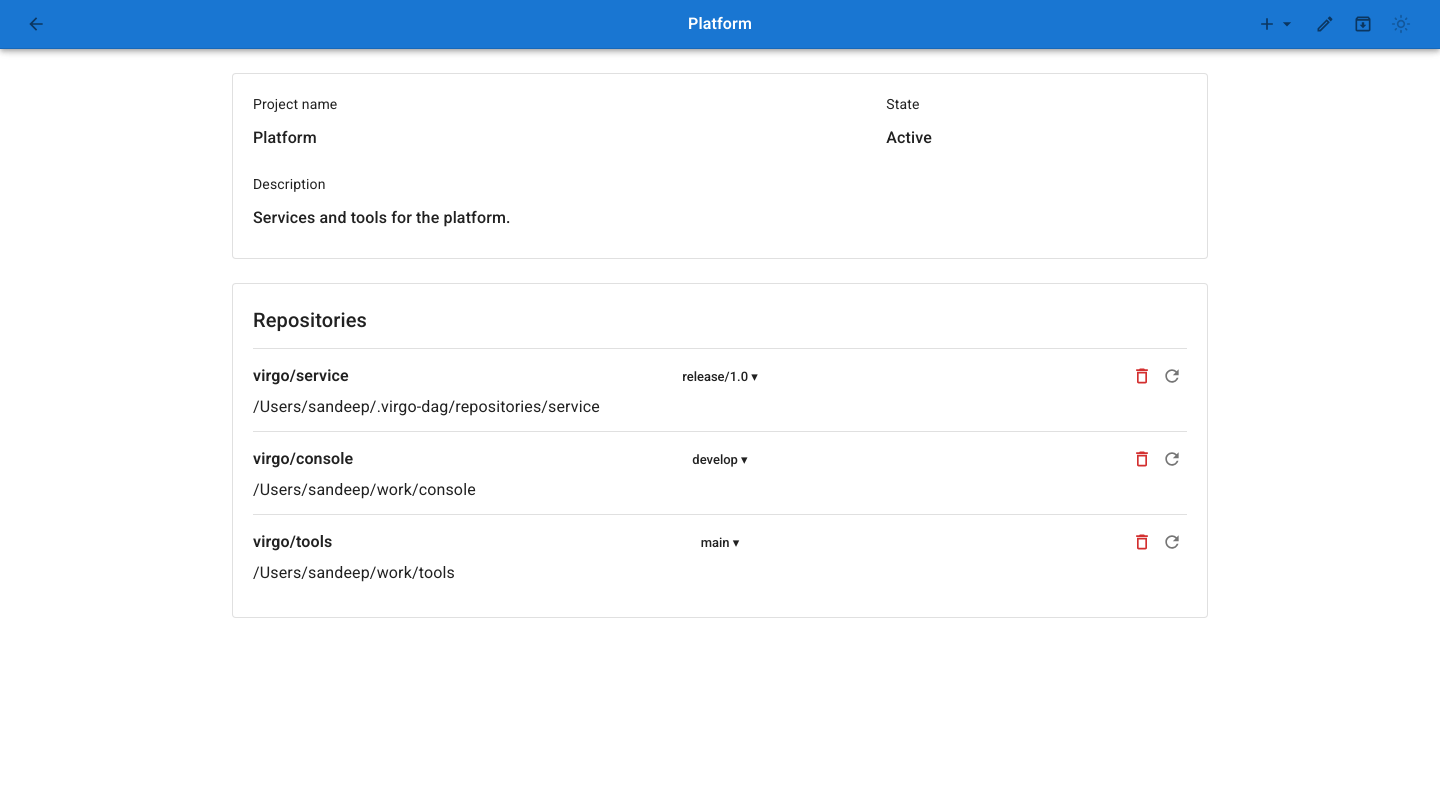
Test case: ProjectDetailsScreen applies editable values without changing catalog records
The image size is (1440, 810).
Click the button named "Edit project" at (1325,24), box [1310,9,1340,39]
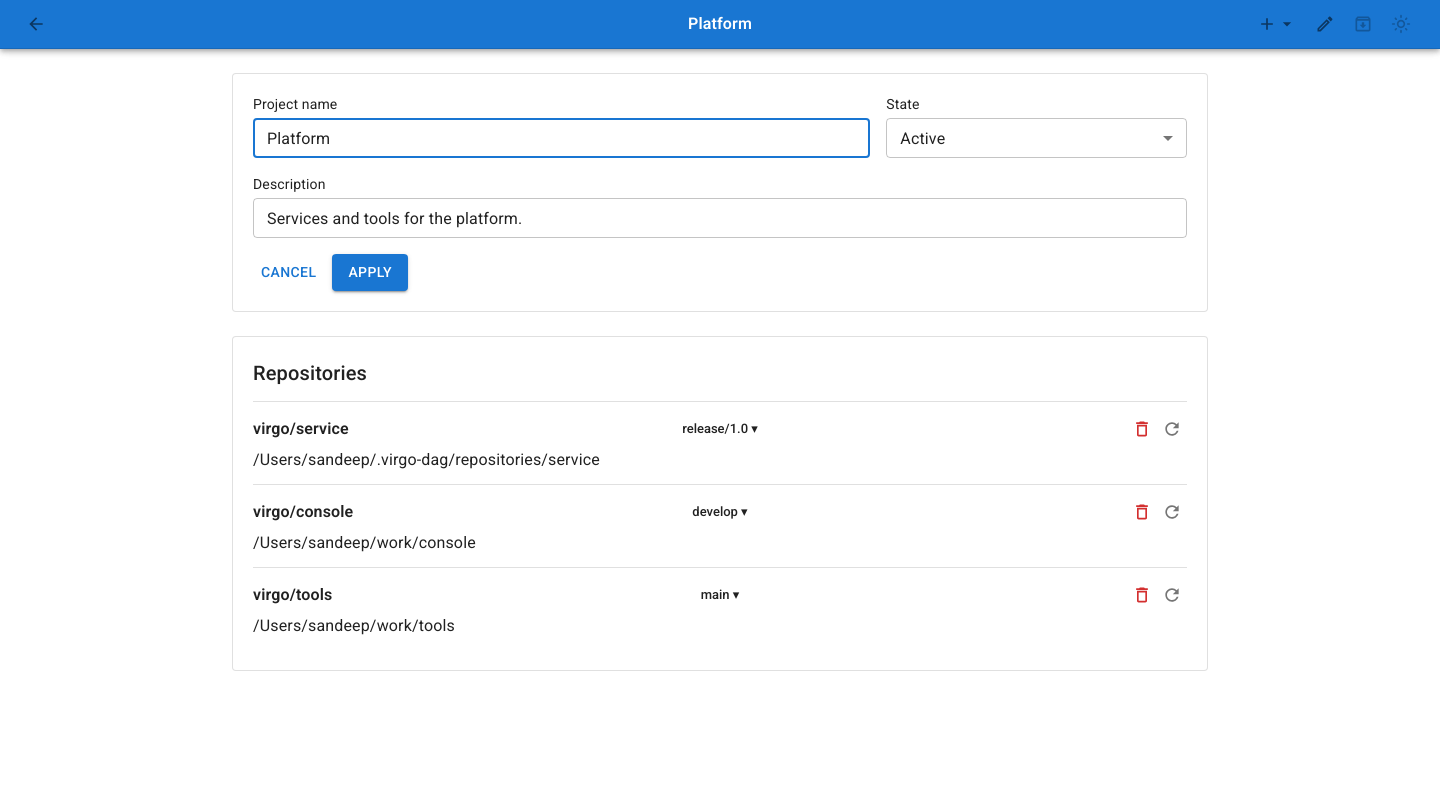
Clear the field named "Project name" at (562,138), box [253,118,870,158]
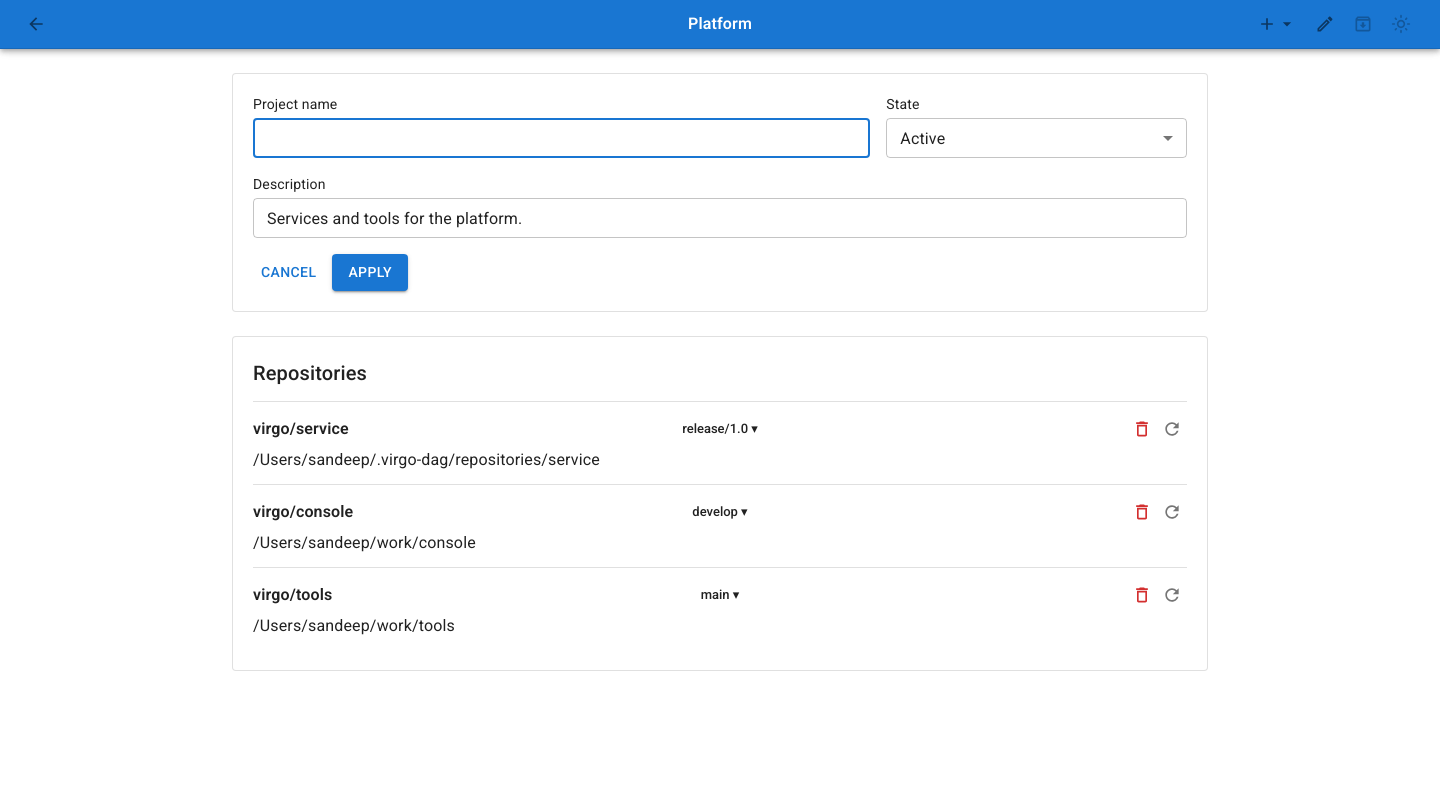
Type keys "Platform operations"
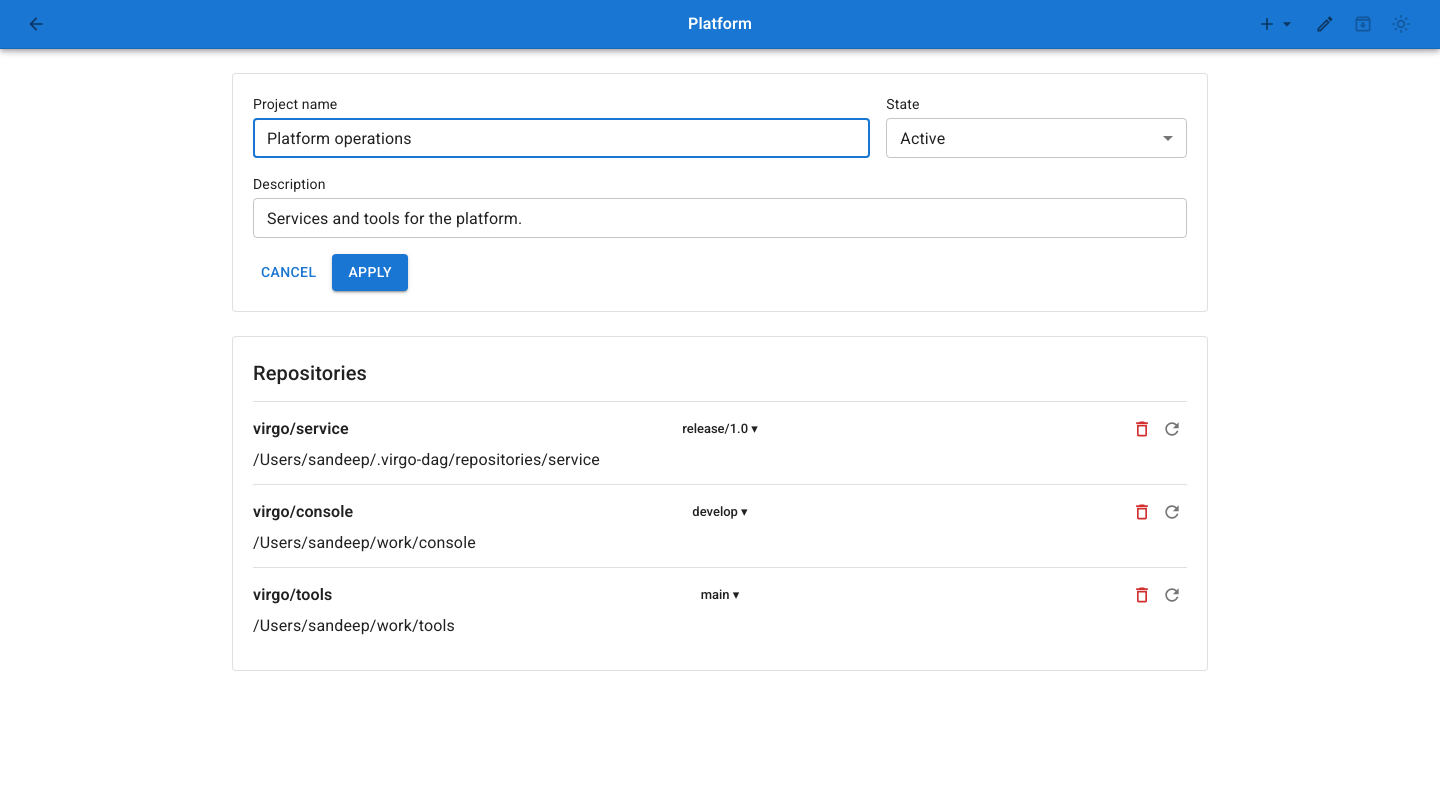
Click the dropdown named "State" at (923,138), box [900,128,945,148]
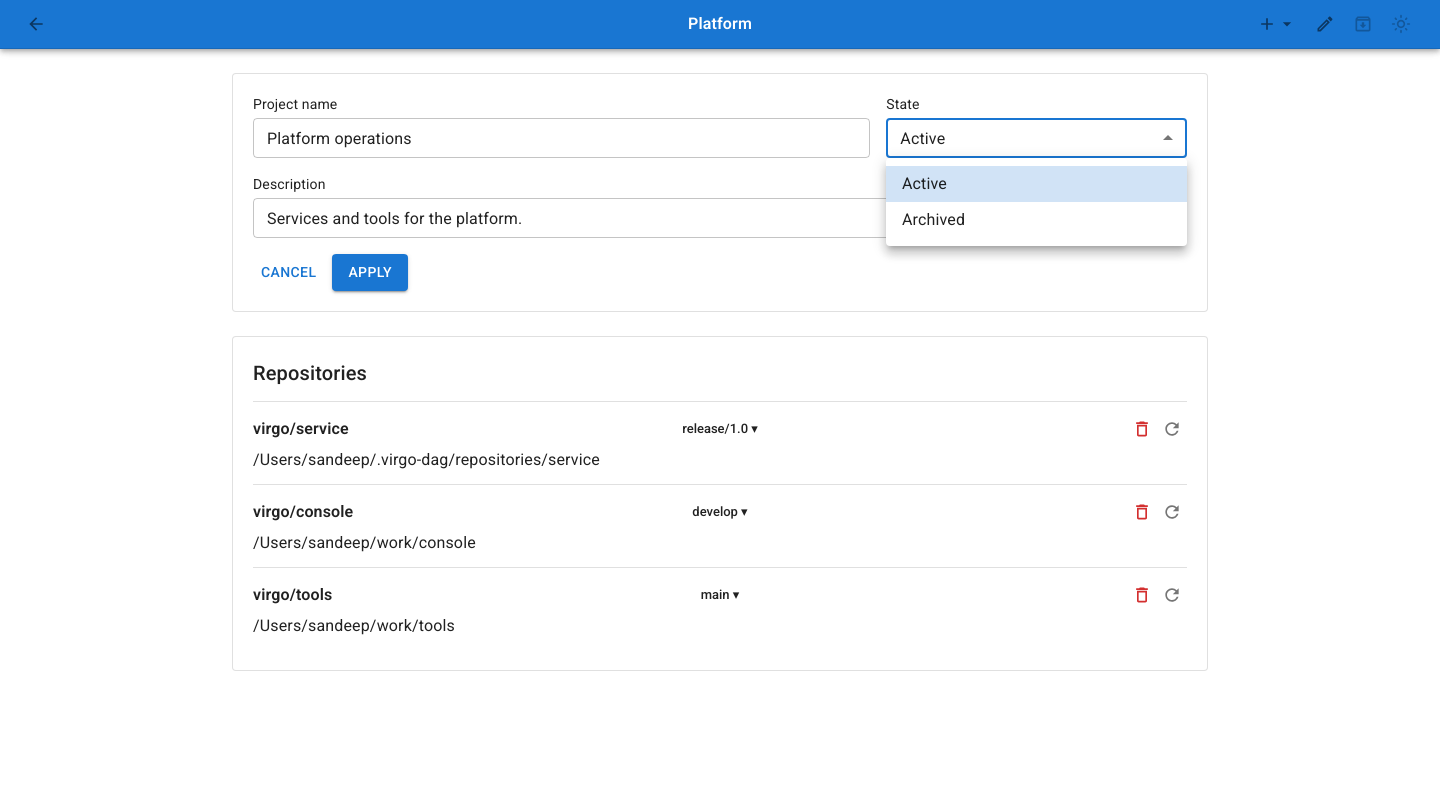
Click the option "Archived" at (934,220), box [902,210,965,229]
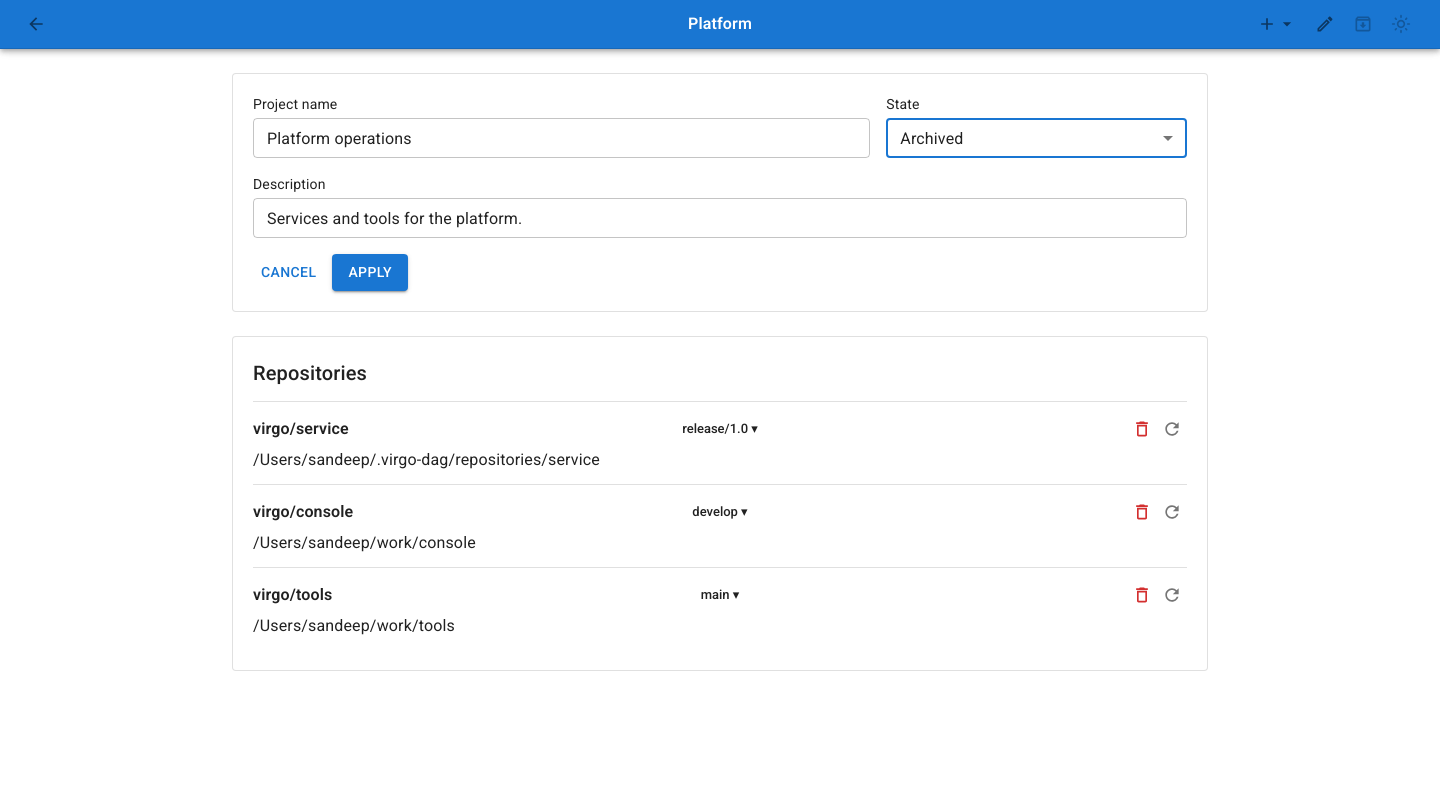
Click the button "Apply" at (370,272), box [332,254,408,290]
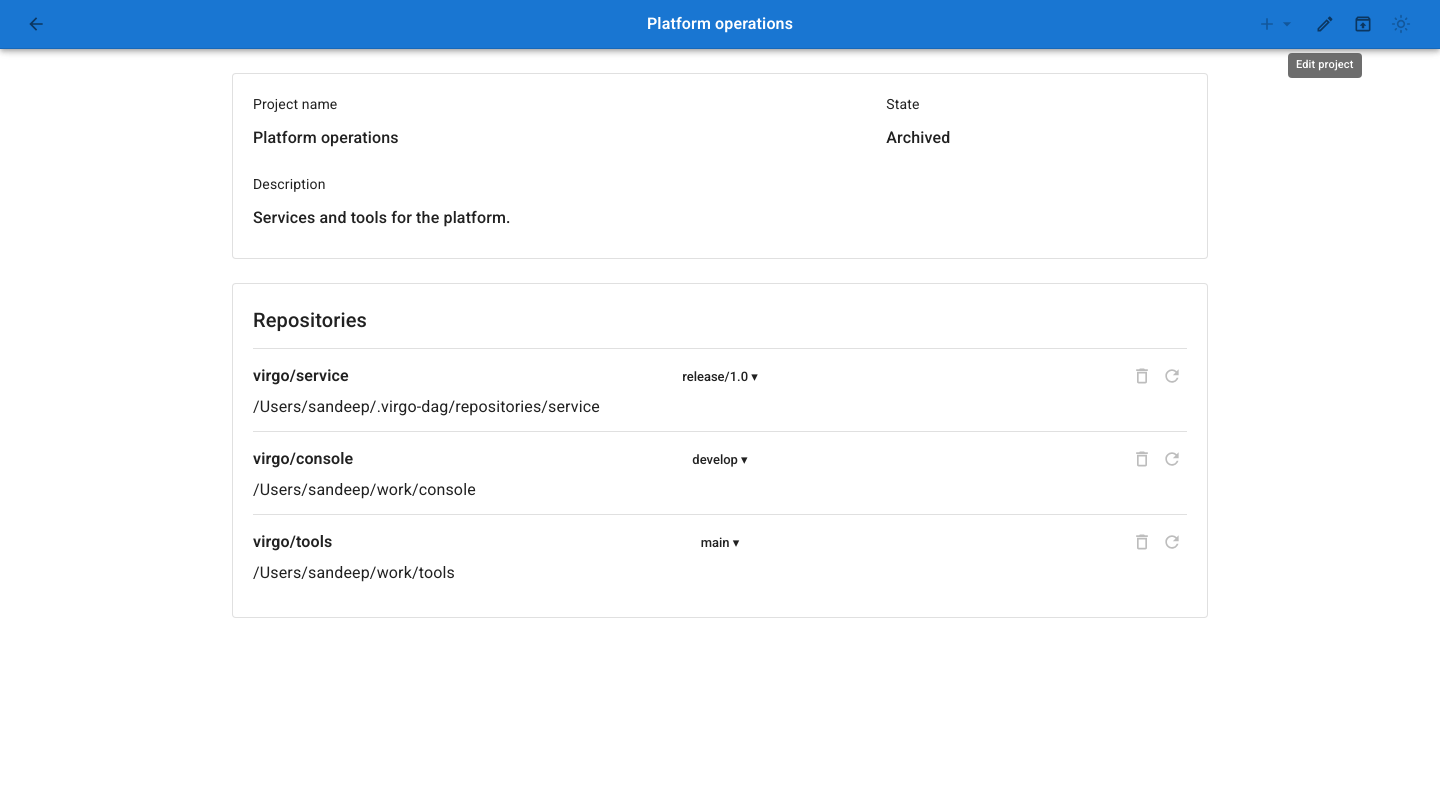
expect the text "Archived" is shown: met, box [886,126,950,150]
expect the heading "Platform operations" is shown: met, box [647,10,793,38]
